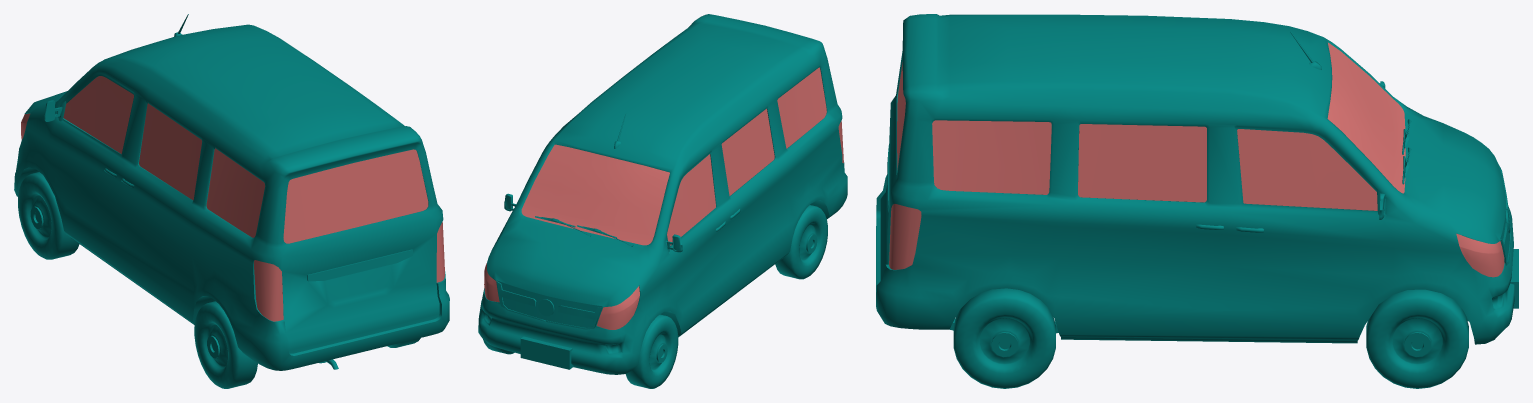
The model's file is MiniVan_A_Snaps004.FBX.
The picture shows the model from 3 angles, left to right: view 1: azimuth 30°, elevation 25°; view 2: azimuth 150°, elevation 25°; view 3: azimuth 270°, elevation 25°; orthographic projection. The views are drawn at different scales.
Visible parts, largest first — view 1: Geometry_MiniVan_A_LOD00; view 2: Geometry_MiniVan_A_LOD00; view 3: Geometry_MiniVan_A_LOD00.
Part boxes in pixels (<box>): Geometry_MiniVan_A_LOD00: <box>14,14,449,388</box>; Geometry_MiniVan_A_LOD00: <box>478,14,847,388</box>; Geometry_MiniVan_A_LOD00: <box>876,14,1518,388</box>.
Size of what is drawn, in the model's own units: 165 by 195 by 375.
